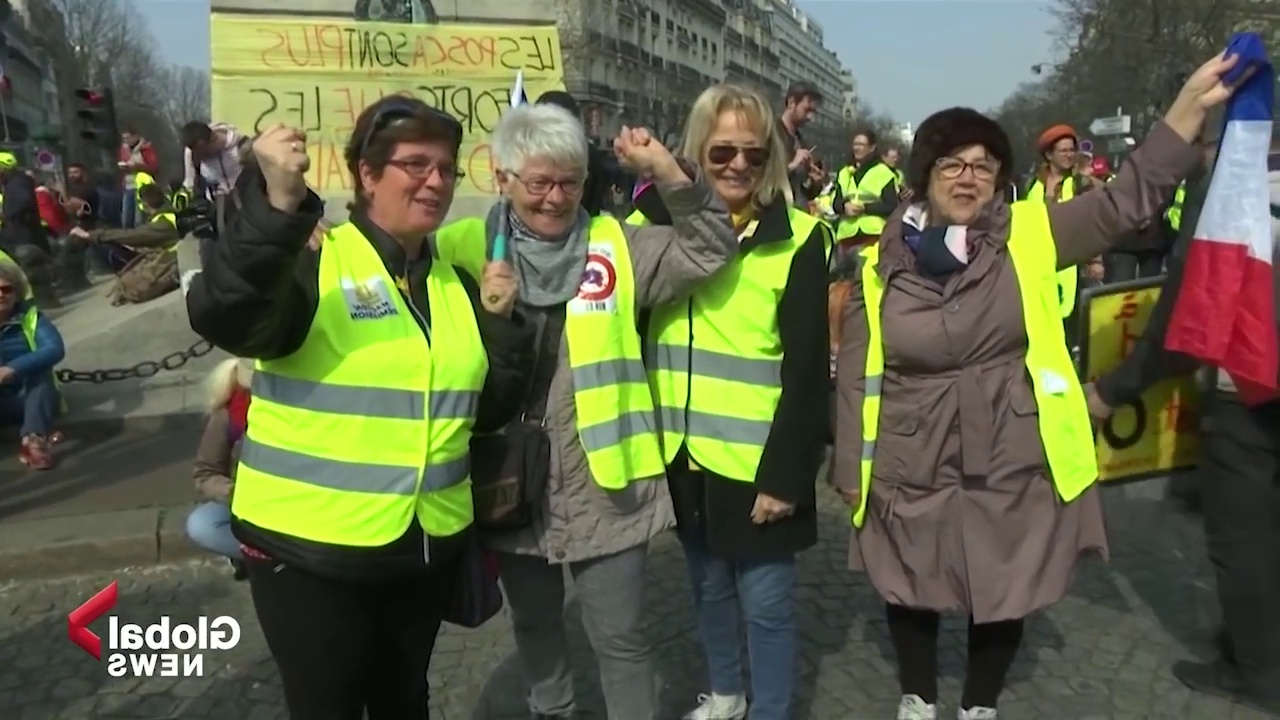NoHardhat: (240, 93, 482, 541), (482, 95, 663, 499), (669, 81, 829, 507)
